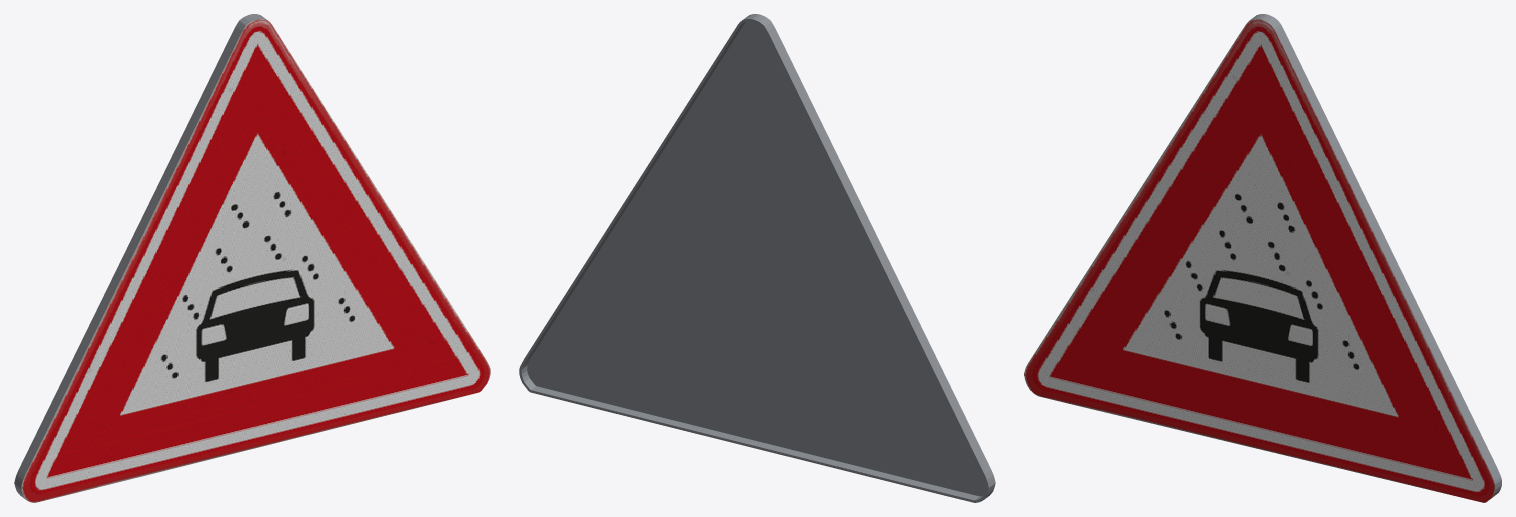
3 renders of one model, left to right at view 1: azimuth 30°, elevation 25°; view 2: azimuth 150°, elevation 25°; view 3: azimuth 330°, elevation 25°, orthographic.
Visible parts, largest first — view 1: cat_bb0a6ee32613d5bc; view 2: cat_bb0a6ee32613d5bc; view 3: cat_bb0a6ee32613d5bc.
Boxes of the visible parts, <box> form: cat_bb0a6ee32613d5bc: <box>14,14,490,502</box>; cat_bb0a6ee32613d5bc: <box>519,14,995,502</box>; cat_bb0a6ee32613d5bc: <box>1024,14,1501,502</box>.
Bounding box in the file's own units: 0.6 × 0.015 × 0.5245.
2 materials, 1 textured.
